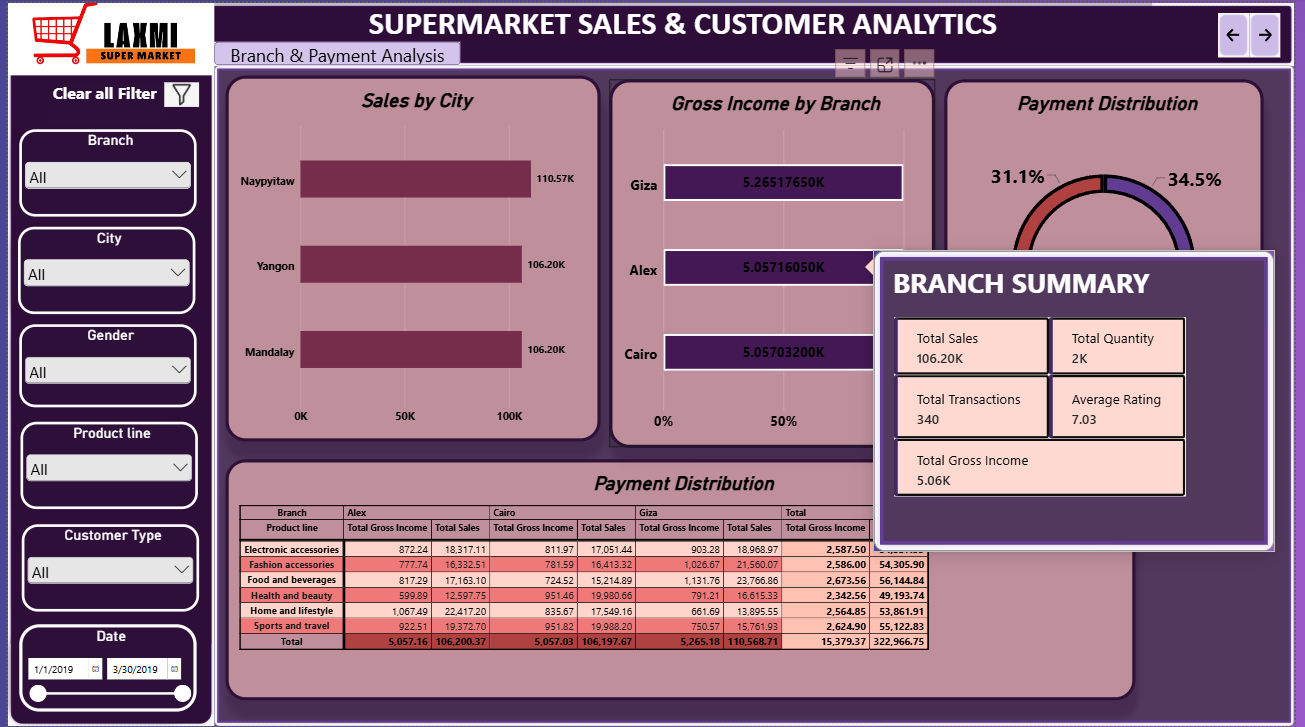

What the dashboard file says about the page in this screenshot:
{"tool":"powerbi","page":{"name":"Branch & Payment Analysis","canvas":[1920,1080],"ordinal":3},"visuals":[{"type":"shape","box":[0,0,308,1080],"z":0},{"type":"slicer","title":"Date","fields":{"Values":["Sales.Date"]},"box":[16,926,265,130],"z":0,"group":"g1"},{"type":"shape","box":[0,0,1920,94],"z":1000},{"type":"slicer","title":"Customer Type","fields":{"Values":["Sales.Customer type"]},"box":[20,778,265,130],"z":1000,"group":"g1"},{"type":"textbox","box":[286,0,1422,70],"z":2000},{"type":"slicer","title":"Gender","fields":{"Values":["Sales.Gender"]},"box":[16,480,265,124],"z":2000,"group":"g1"},{"type":"image","box":[0,0,308,108],"z":3000},{"type":"slicer","title":"City","fields":{"Values":["Sales.City"]},"box":[14,334,265,130],"z":3000,"group":"g1"},{"type":"shape","box":[308,94,1612,986],"z":4000},{"type":"slicer","title":"Product line","fields":{"Values":["Sales.Product line"]},"box":[18,624,265,130],"z":4000,"group":"g1"},{"type":"shape","box":[308,58,367.5,35],"z":5000},{"type":"slicer","title":"Branch","fields":{"Values":["Sales.Branch"]},"box":[16,188,265,130],"z":5000,"group":"g1"},{"type":"actionButton","box":[1852,14,46.7,66.7],"z":6000},{"type":"actionButton","box":[1806,14,46,66],"z":7000},{"type":"hundredPercentStackedBarChart","title":"Gross Income by Branch","fields":{"Category":["Sales.Branch"],"Y":["Measure.Total Gross Income"]},"box":[898,114,486.7,550],"z":8000},{"type":"barChart","title":"Sales by City","fields":{"Category":["Sales.City"],"Y":["Measure.Total Sales"]},"box":[324,108,560,546.7],"z":9000},{"type":"donutChart","title":"Payment Distribution","fields":{"Category":["Sales.Payment"],"Y":["Measure.Total Transactions"]},"box":[1398,114,476.7,550],"z":10000},{"type":"pivotTable","title":"Payment Distribution","fields":{"Columns":["Sales.Branch"],"Rows":["Sales.Product line"],"Values":["Measure.Total Gross Income","Measure.Total Sales"]},"box":[324,682,1358,360],"z":11000},{"type":"group","id":"g1","title":"Group 1","box":[14,188,271,868],"z":12000},{"type":"textbox","box":[62,118,172,62],"z":13000},{"type":"image","box":[234,118,52,38],"z":14000}]}

Visuals, with their boxes in screenshot pixels (x1, y1, x2, y2), scaled from the page's 1920x1080 canvas onto the 1305x727 screenshot:
shape: x1=0 y1=0 x2=209 y2=726
"Date" slicer: x1=11 y1=623 x2=191 y2=711
shape: x1=0 y1=0 x2=1304 y2=63
"Customer Type" slicer: x1=14 y1=524 x2=194 y2=611
textbox: x1=194 y1=0 x2=1161 y2=47
"Gender" slicer: x1=11 y1=323 x2=191 y2=407
image: x1=0 y1=0 x2=209 y2=73
"City" slicer: x1=10 y1=225 x2=190 y2=312
shape: x1=209 y1=63 x2=1304 y2=726
"Product line" slicer: x1=12 y1=420 x2=192 y2=508
shape: x1=209 y1=39 x2=459 y2=63
"Branch" slicer: x1=11 y1=127 x2=191 y2=214
actionButton: x1=1259 y1=9 x2=1291 y2=54
actionButton: x1=1228 y1=9 x2=1259 y2=54
"Gross Income by Branch" hundredPercentStackedBarChart: x1=610 y1=77 x2=941 y2=447
"Sales by City" barChart: x1=220 y1=73 x2=601 y2=441
"Payment Distribution" donutChart: x1=950 y1=77 x2=1274 y2=447
"Payment Distribution" pivotTable: x1=220 y1=459 x2=1143 y2=701
"Group 1" group: x1=10 y1=127 x2=194 y2=711
textbox: x1=42 y1=79 x2=159 y2=121
image: x1=159 y1=79 x2=194 y2=105
